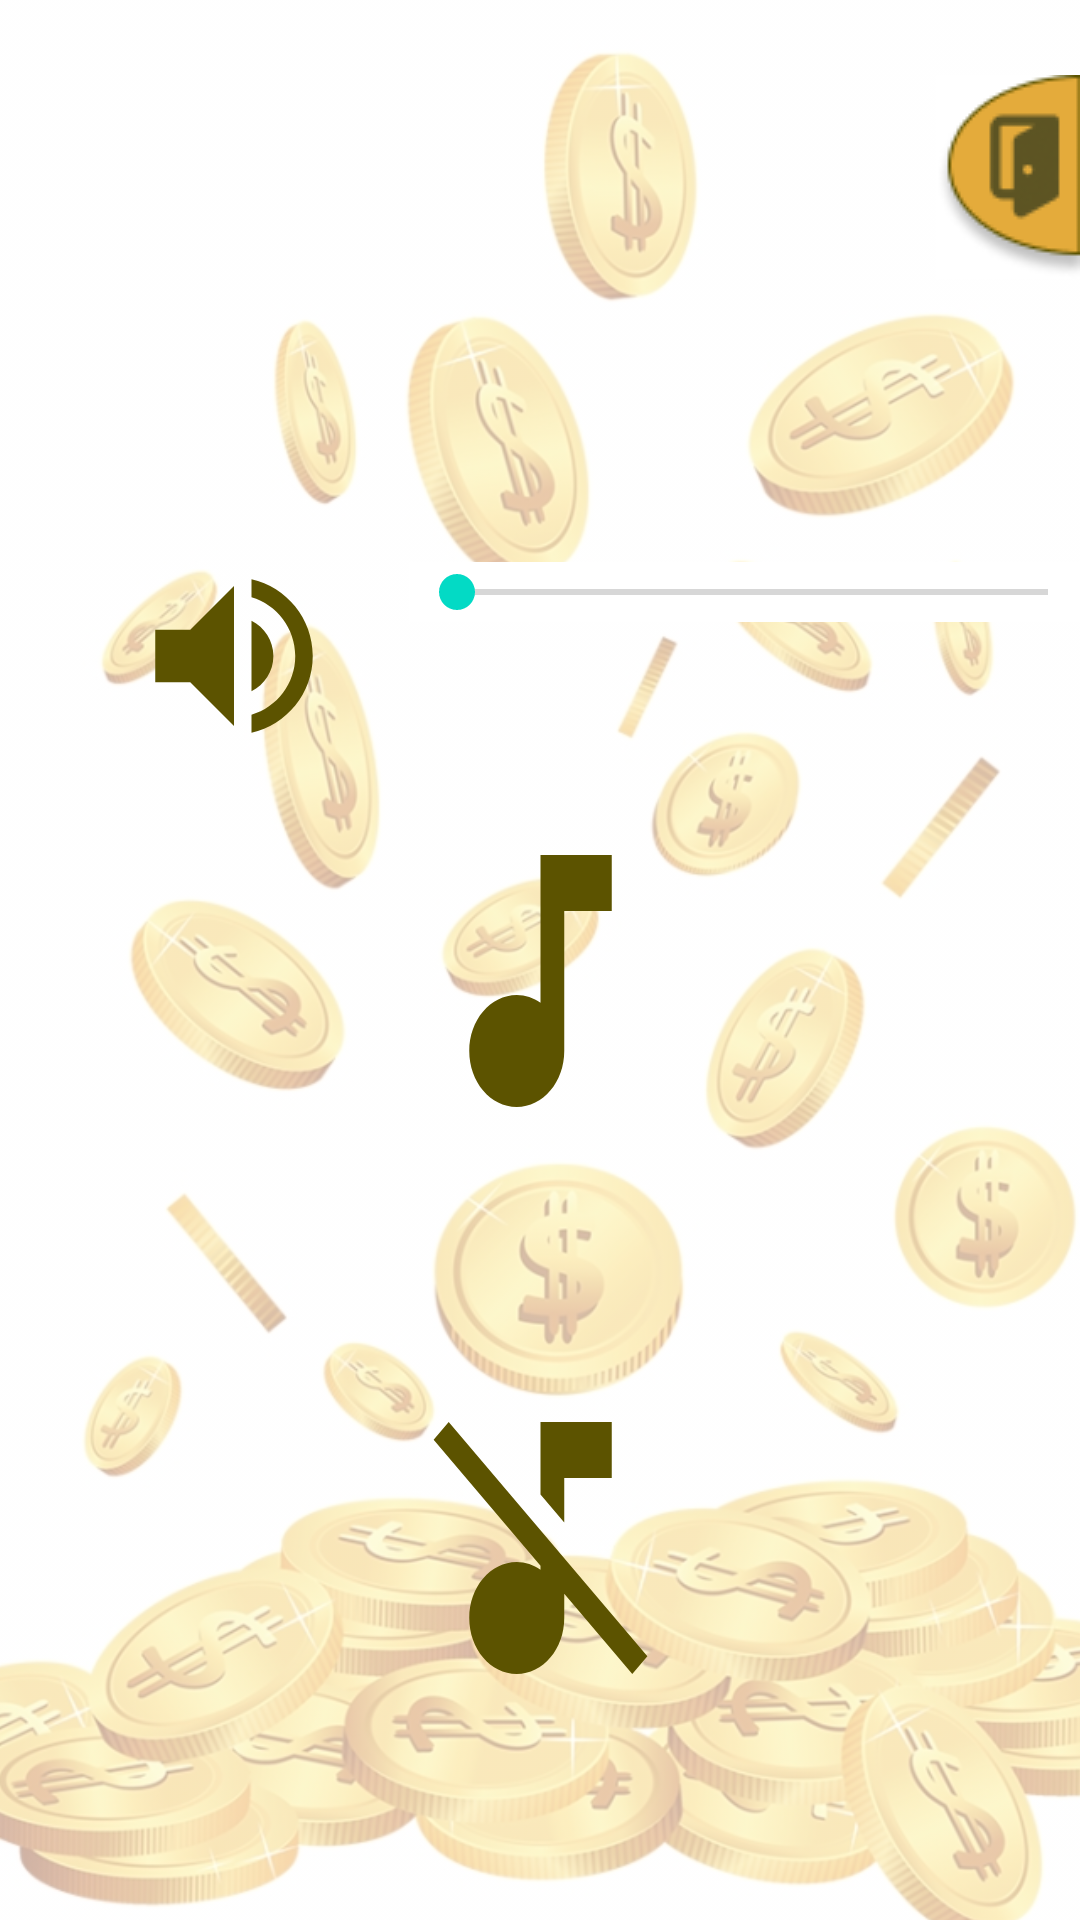

Icon click points for this 1080px x 1920px phone screenshot, format (x=x, y=y):
exitbutton: (x=1013, y=171)
music note: (x=527, y=981)
music off: (x=540, y=1548)
volume: (x=240, y=655)
